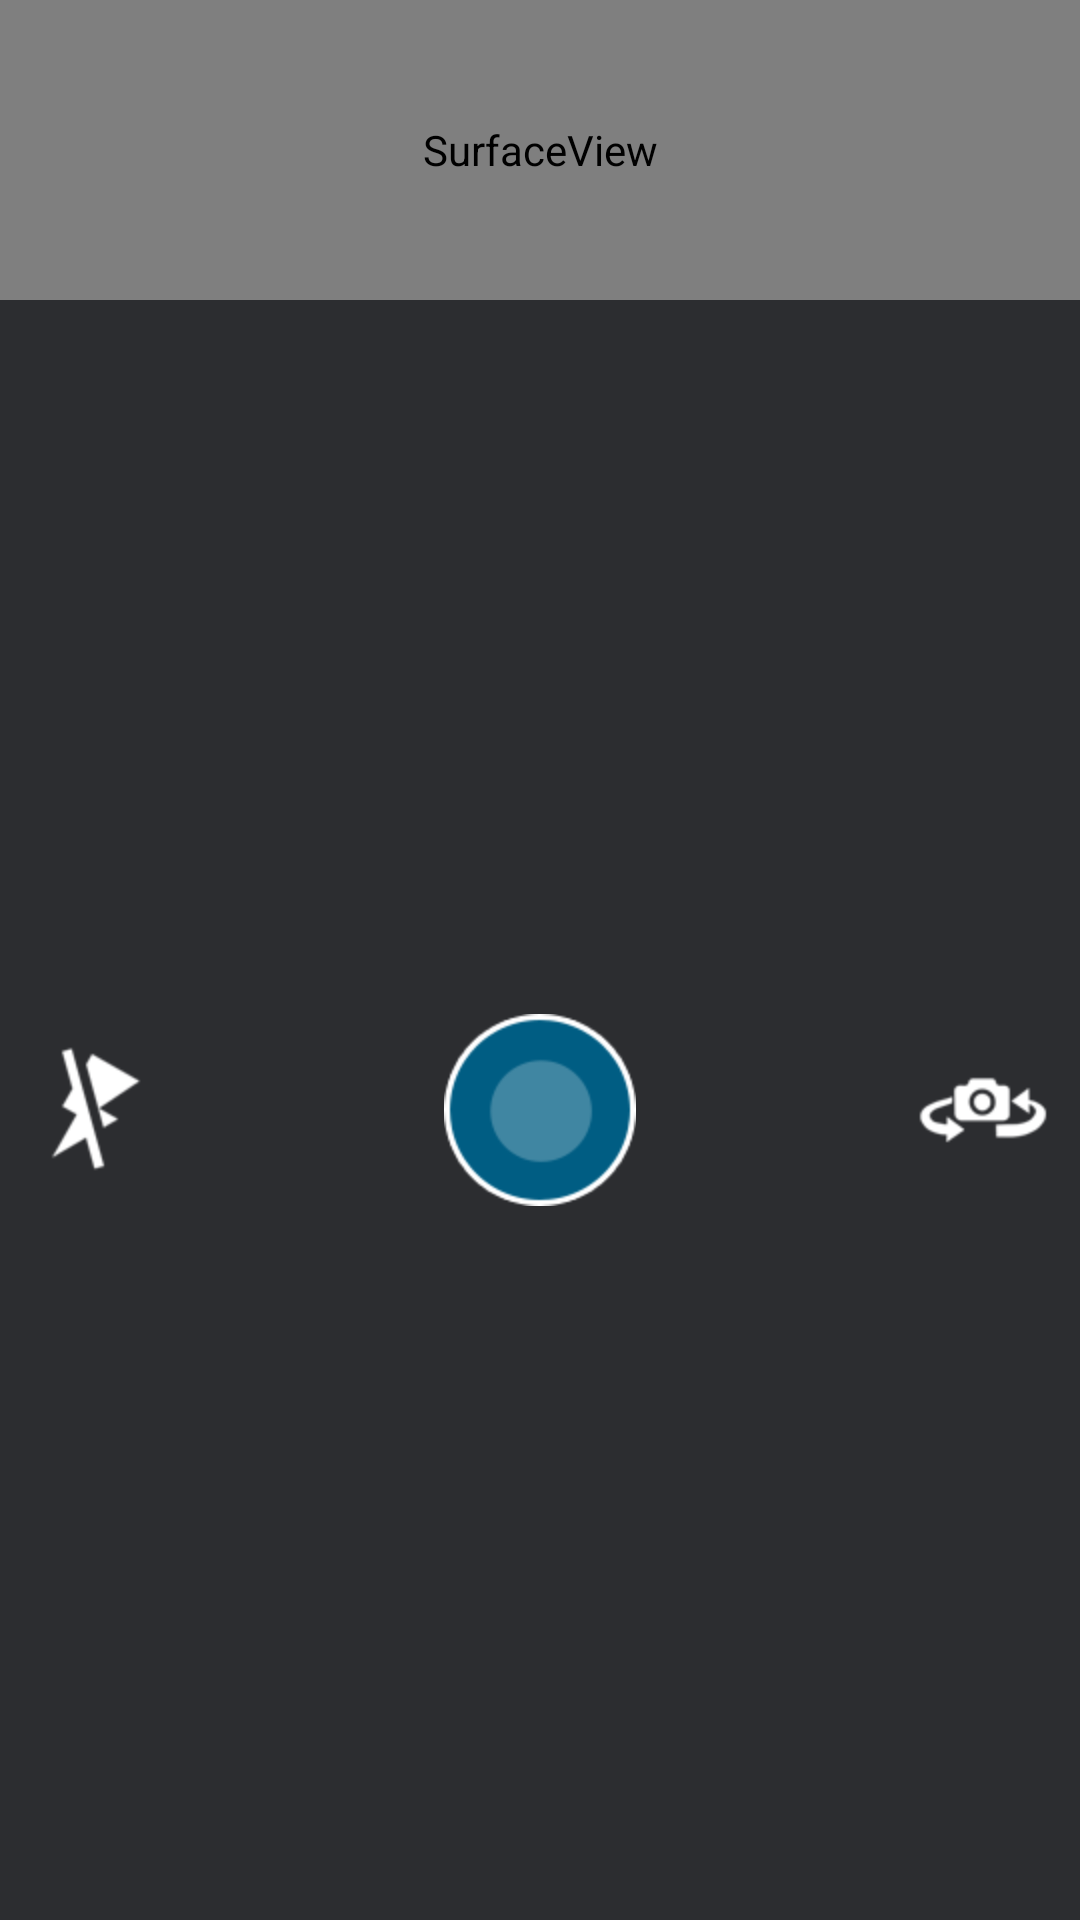

Locate icon controls on the screen. Image size 1080px×1920px, boxes as box=[x1, y1, x2, y2].
noflash: box=[52, 1048, 140, 1170]
photo: box=[444, 1014, 636, 1206]
rotate camera: box=[919, 1077, 1047, 1143]
